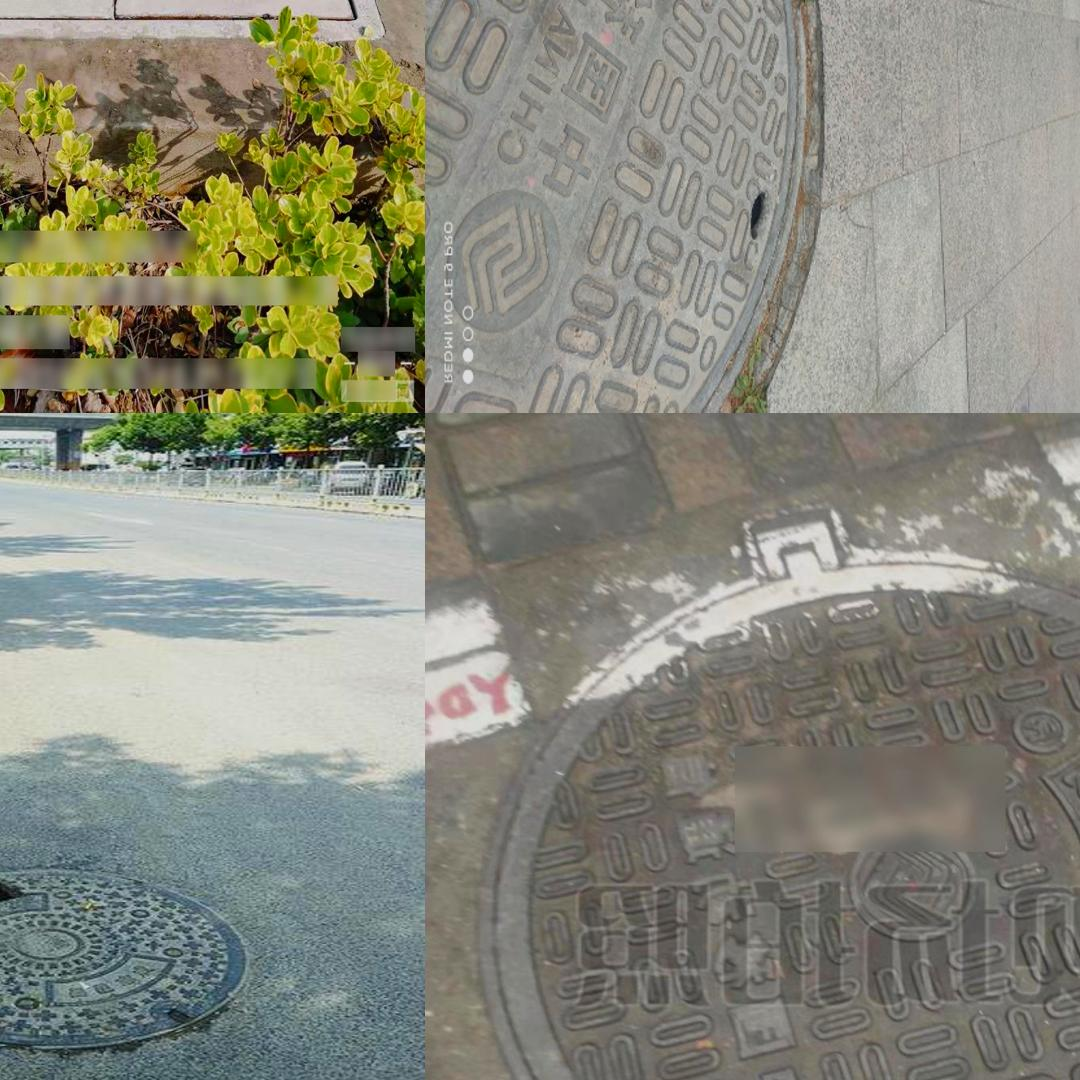good: (470, 501, 1080, 1080), (425, 0, 821, 413), (0, 847, 305, 1051), (0, 0, 384, 43)
